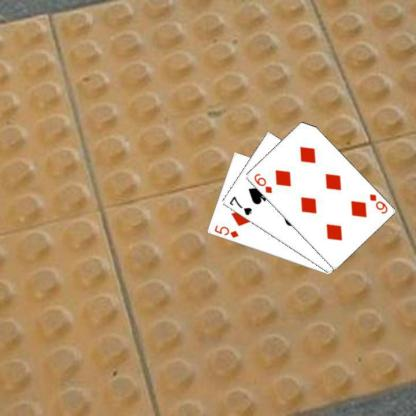5D: (211, 223, 240, 240)
6D: (367, 191, 389, 215), (252, 171, 274, 194)
7S: (227, 194, 253, 216)
